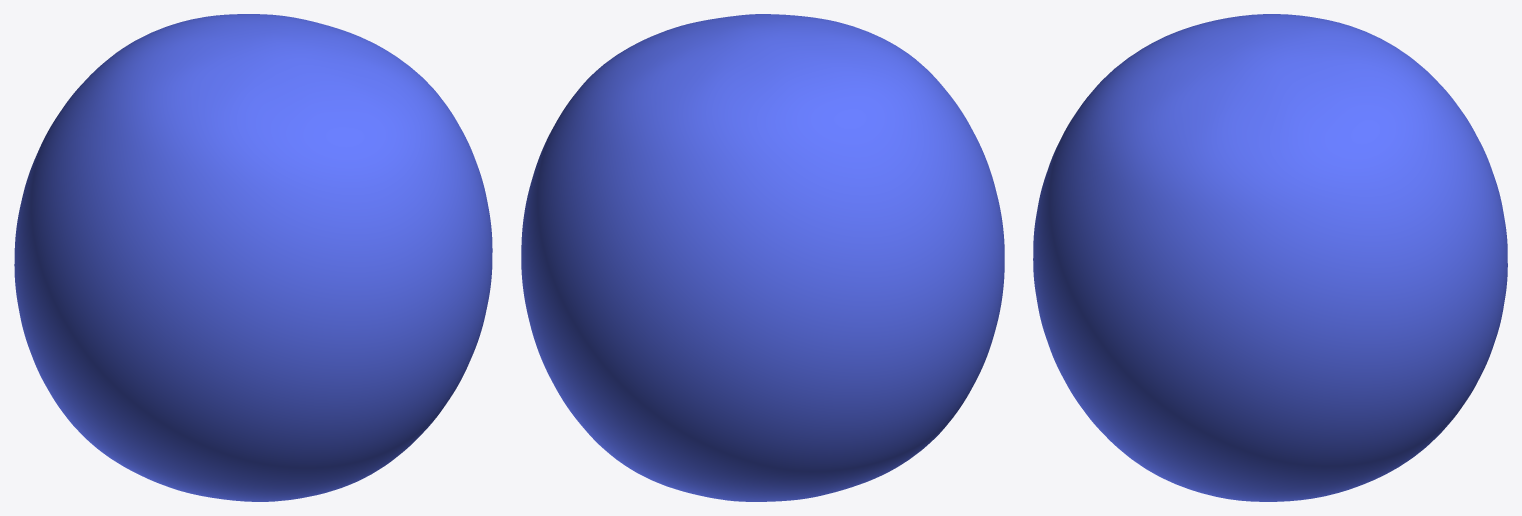
3 views of the same model, side by side, from view 1: azimuth 30°, elevation 25°; view 2: azimuth 150°, elevation 25°; view 3: azimuth 270°, elevation 25° (orthographic).
Parts seen in each view (by area): view 1: skfb_offset; view 2: skfb_offset; view 3: skfb_offset.
Part boxes in pixels (x1,y1,x2,y2): skfb_offset: [14, 14, 492, 501]; skfb_offset: [521, 14, 1004, 501]; skfb_offset: [1033, 14, 1507, 501].
Size of the model in its own units: 0.9321 by 0.9317 by 0.9315.
